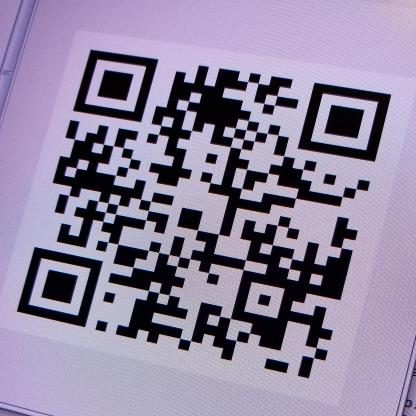qr: (14, 42, 396, 386)
